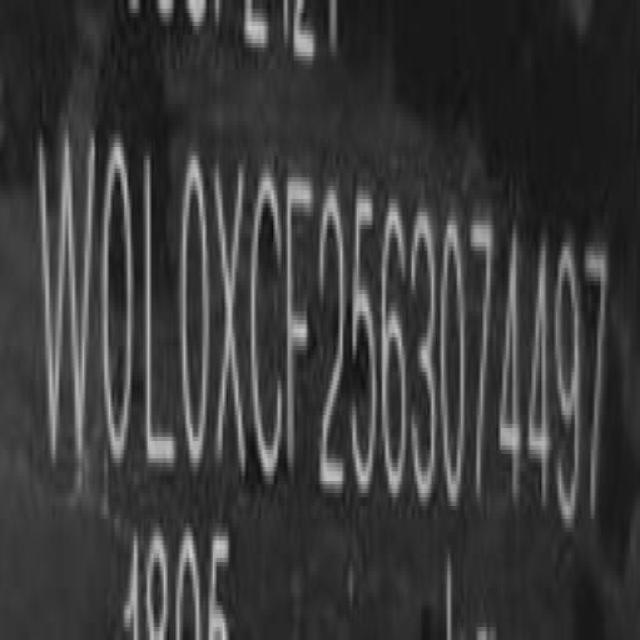0: (100, 131, 138, 486), (180, 148, 213, 479), (440, 207, 468, 515)
2: (318, 174, 347, 508)
3: (412, 200, 439, 512)
4: (499, 221, 526, 522), (527, 225, 551, 526)
5: (351, 183, 379, 506)
6: (384, 187, 412, 508)
7: (469, 206, 494, 522), (587, 234, 612, 549)
9: (556, 238, 584, 536)
C: (251, 162, 285, 488)
F: (286, 168, 316, 499)
L: (136, 130, 174, 483)
W: (36, 120, 94, 488)
X: (214, 155, 249, 486)
